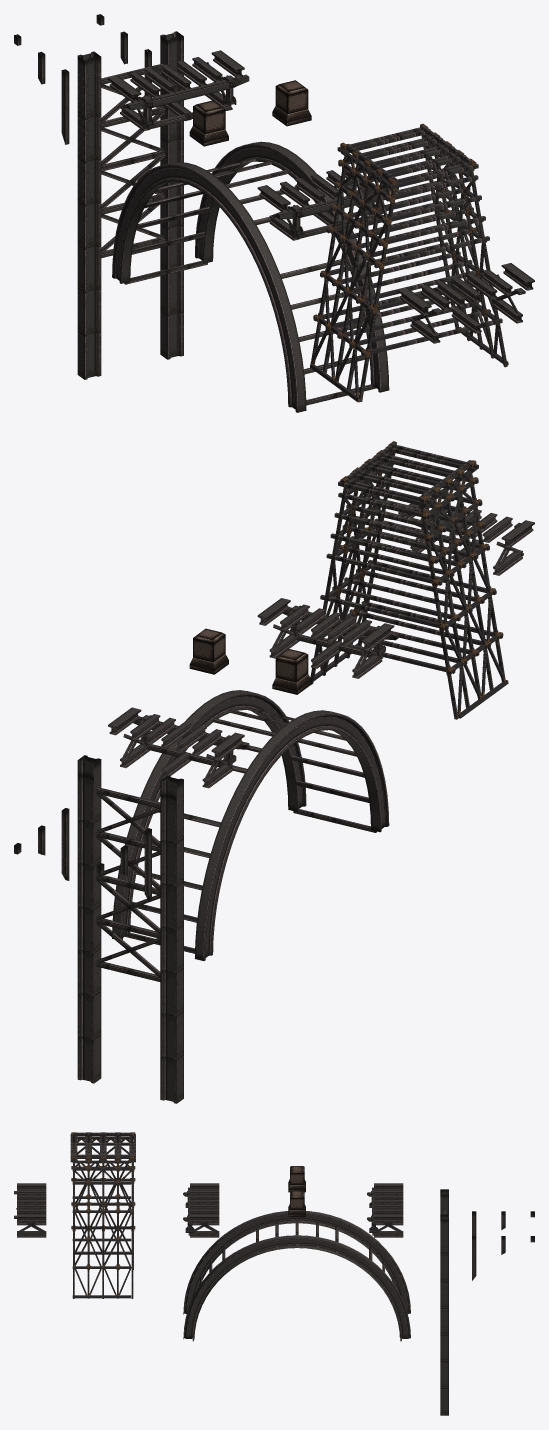
Rendered from EnvMdrMD_IronBridge_A_Arch.FBX.
3 renders of one model, top to bottom at view 1: azimuth 30°, elevation 25°; view 2: azimuth 150°, elevation 25°; view 3: azimuth 270°, elevation 25°, orthographic. The views are drawn at different scales.
Visible parts, largest first — view 1: EnvMdrMD_IronBridge_A_WoodSide, EnvMdrMD_IronBridge_A_SidePanel, EnvMdrMD_IronBridge_A_Arch, EnvMdrMD_IronBridge_A_Top_Loop, EnvMdrMD_IronBridge_A_Top_End, EnvMdrMD_IronBridge_A_Top_Start, EnvMdrMD_IronBridge_A_Foot; view 2: EnvMdrMD_IronBridge_A_WoodSide, EnvMdrMD_IronBridge_A_SidePanel, EnvMdrMD_IronBridge_A_Arch, EnvMdrMD_IronBridge_A_Top_Loop, EnvMdrMD_IronBridge_A_Top_Start, EnvMdrMD_IronBridge_A_Foot, EnvMdrMD_IronBridge_A_Top_End; view 3: EnvMdrMD_IronBridge_A_Arch, EnvMdrMD_IronBridge_A_WoodSide, EnvMdrMD_IronBridge_A_SidePanel, EnvMdrMD_IronBridge_A_Top_Start, EnvMdrMD_IronBridge_A_Top_Loop, EnvMdrMD_IronBridge_A_Top_End, EnvMdrMD_IronBridge_A_Foot.
Part boxes in pixels (x1,y1,x2,y2): EnvMdrMD_IronBridge_A_WoodSide: (310, 123, 508, 402); EnvMdrMD_IronBridge_A_SidePanel: (14, 14, 183, 379); EnvMdrMD_IronBridge_A_Arch: (112, 141, 389, 412); EnvMdrMD_IronBridge_A_Top_Loop: (108, 50, 249, 131); EnvMdrMD_IronBridge_A_Top_End: (398, 263, 534, 343); EnvMdrMD_IronBridge_A_Top_Start: (257, 161, 398, 240); EnvMdrMD_IronBridge_A_Foot: (189, 80, 311, 146); EnvMdrMD_IronBridge_A_WoodSide: (310, 441, 508, 719); EnvMdrMD_IronBridge_A_SidePanel: (14, 755, 183, 1103); EnvMdrMD_IronBridge_A_Arch: (112, 690, 389, 960); EnvMdrMD_IronBridge_A_Top_Loop: (108, 707, 249, 788); EnvMdrMD_IronBridge_A_Top_Start: (257, 598, 398, 678); EnvMdrMD_IronBridge_A_Foot: (189, 628, 311, 694); EnvMdrMD_IronBridge_A_Top_End: (398, 495, 534, 575); EnvMdrMD_IronBridge_A_Arch: (183, 1211, 410, 1341); EnvMdrMD_IronBridge_A_WoodSide: (70, 1132, 135, 1298); EnvMdrMD_IronBridge_A_SidePanel: (440, 1189, 534, 1415); EnvMdrMD_IronBridge_A_Top_Start: (183, 1183, 219, 1237); EnvMdrMD_IronBridge_A_Top_Loop: (367, 1183, 403, 1237); EnvMdrMD_IronBridge_A_Top_End: (14, 1183, 46, 1237); EnvMdrMD_IronBridge_A_Foot: (288, 1166, 305, 1216).
Bounding box in the file's own units: 1460 × 3850 × 7095.
1 material, 1 textured.
